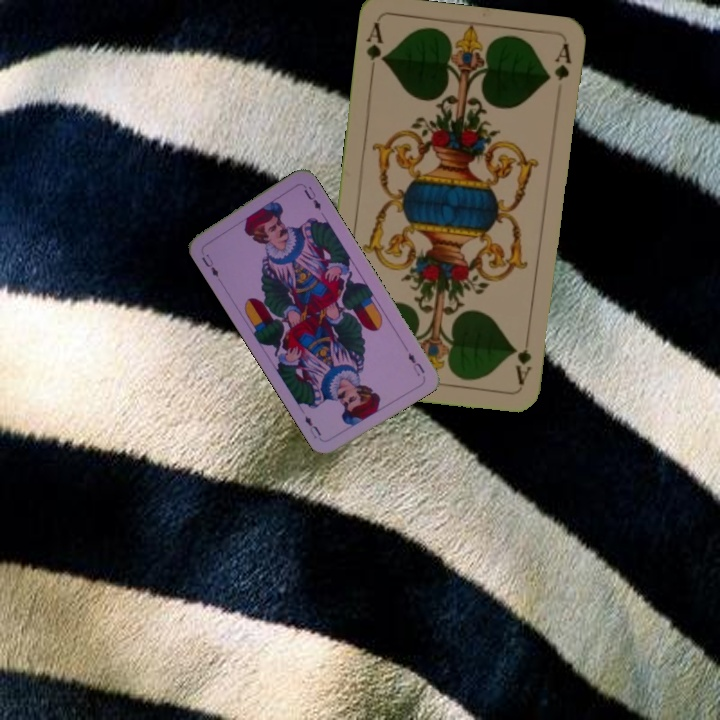EU: (198, 250, 221, 280), (404, 349, 427, 379)
GA: (362, 19, 388, 79), (512, 329, 534, 388)
